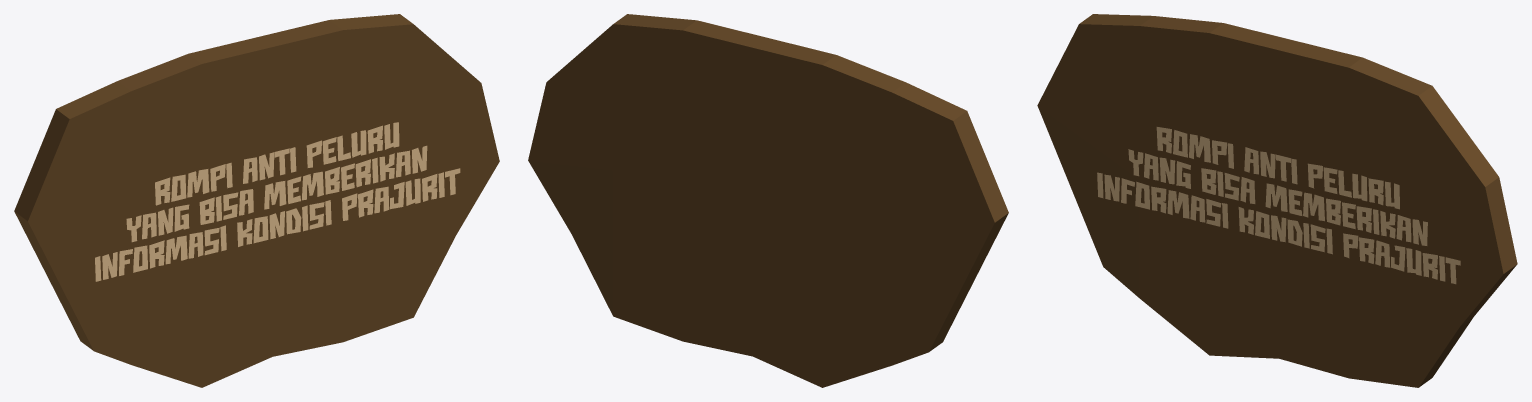
Rendered from ui_1_Rompi.fbx.
The picture shows the model from 3 angles, left to right: view 1: azimuth 30°, elevation 25°; view 2: azimuth 150°, elevation 25°; view 3: azimuth 330°, elevation 25°; orthographic projection.
Parts seen in each view (by area): view 1: Cube.003, Text.002; view 2: Cube.003; view 3: Cube.003, Text.002.
Boxes of the visible parts, x1,y1,x2,y2 form: Cube.003: (14,14,499,387); Text.002: (95,122,460,281); Cube.003: (528,14,1008,387); Cube.003: (1037,14,1517,387); Text.002: (1097,127,1460,284).
Size of the model in its own units: 256 by 168 by 16.5.
